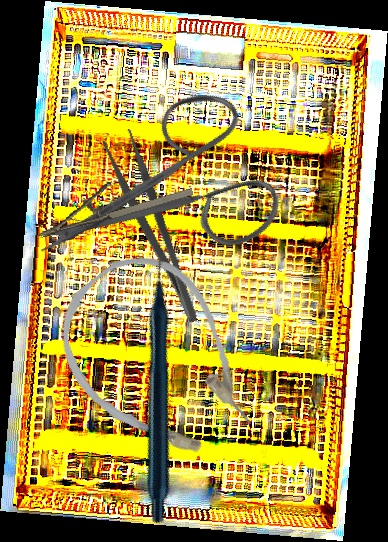Cannula: (33, 232, 284, 492)
Dressing Forceps: (99, 127, 204, 331)
Handpiece: (27, 239, 303, 528)
Iris Scissors: (26, 49, 315, 347)
Needle Holder: (31, 162, 195, 239)
